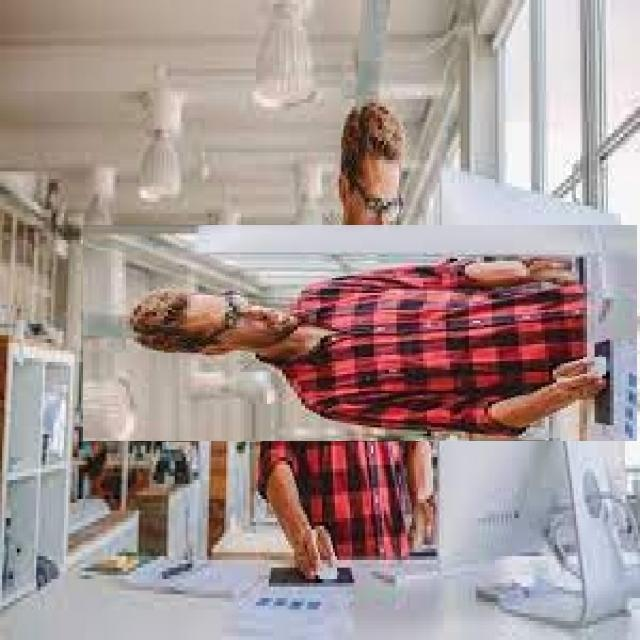NotFall: (80, 228, 631, 441)
